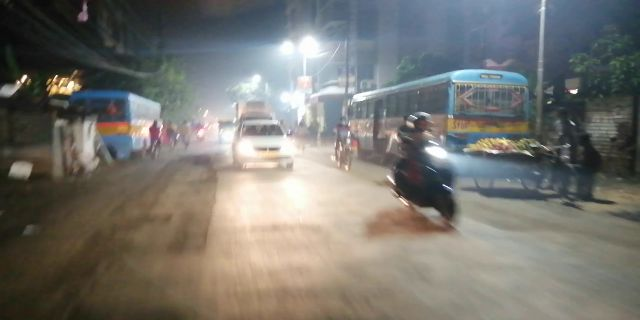Bus: (336, 65, 538, 150), (70, 87, 165, 157)
Car: (231, 112, 297, 170)
Motorbike: (389, 112, 466, 225), (330, 114, 356, 174)
